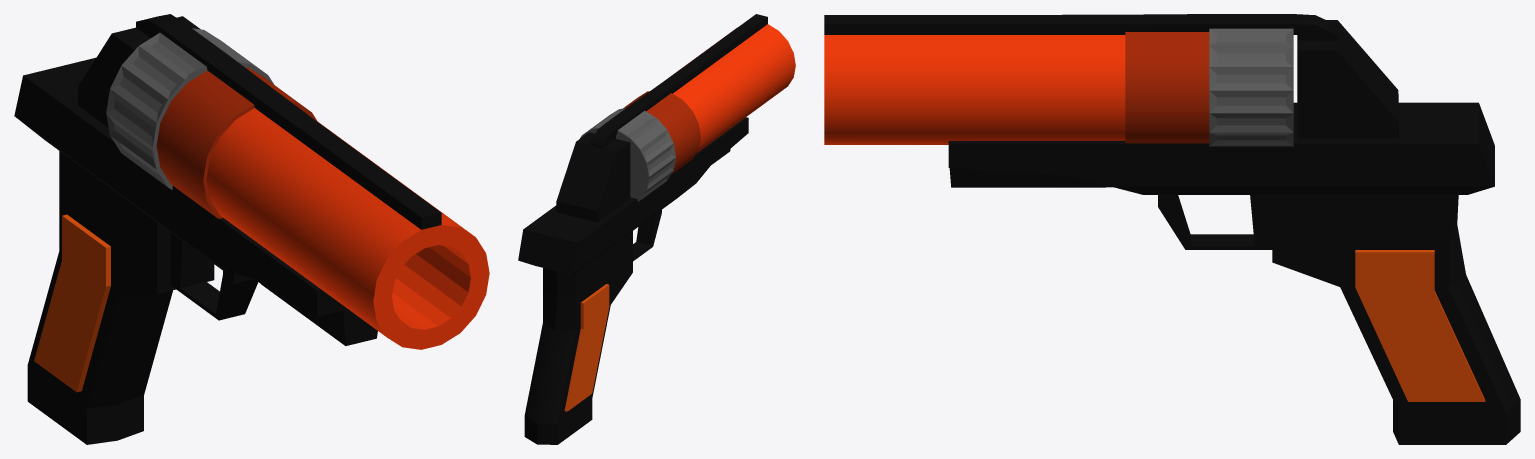
Rendered from flaregun.fbx.
3 renders of one model, left to right at view 1: azimuth 30°, elevation 25°; view 2: azimuth 150°, elevation 25°; view 3: azimuth 270°, elevation 25°, orthographic. The views are drawn at different scales.
Parts seen in each view (by area): view 1: Box001; view 2: Box001; view 3: Box001.
Boxes of the visible parts, x1,y1,x2,y2 form: Box001: [14, 14, 489, 444]; Box001: [518, 14, 795, 444]; Box001: [824, 14, 1520, 444].
Size of the model in its own units: 2.24 by 7.46 by 11.42.
